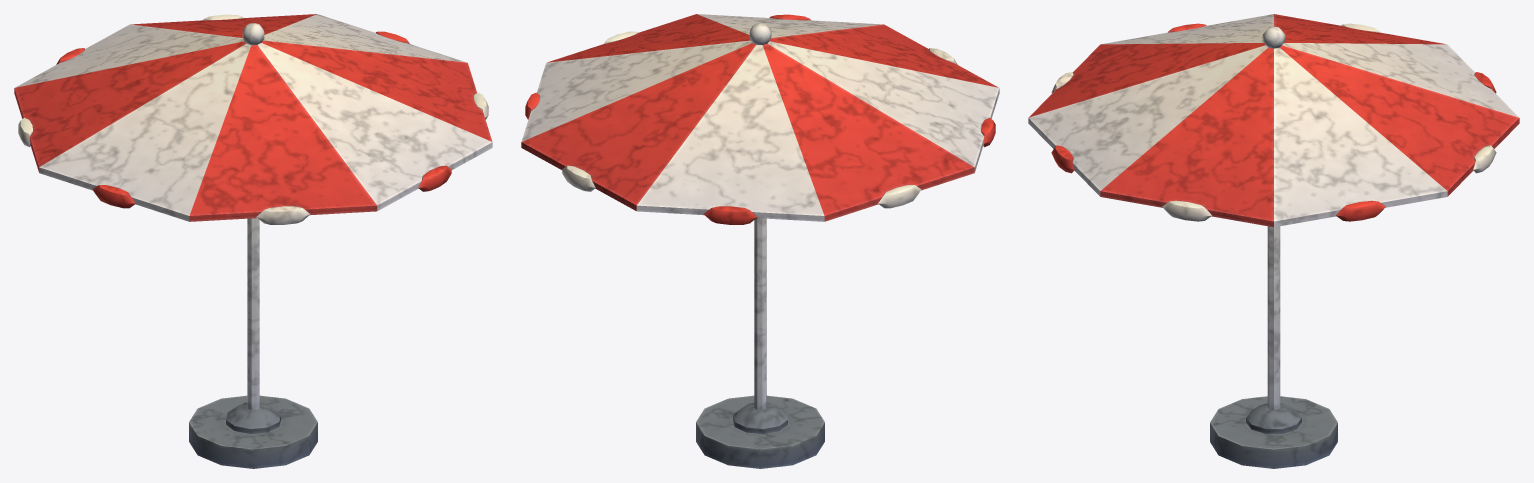
Rendered from Stage_Pool_Umbrella.glb.
3 views of the same model, side by side, from view 1: azimuth 30°, elevation 25°; view 2: azimuth 150°, elevation 25°; view 3: azimuth 270°, elevation 25° (orthographic).
Parts seen in each view (by area): view 1: Stage_Pool_Umbrella; view 2: Stage_Pool_Umbrella; view 3: Stage_Pool_Umbrella.
Part boxes in pixels (<box>): Stage_Pool_Umbrella: <box>14,14,492,468</box>; Stage_Pool_Umbrella: <box>521,14,999,468</box>; Stage_Pool_Umbrella: <box>1028,14,1519,468</box>.
Size of the model in its own units: 9.2 by 8.57 by 9.2.
Materials: 1 (1 with a texture image).
